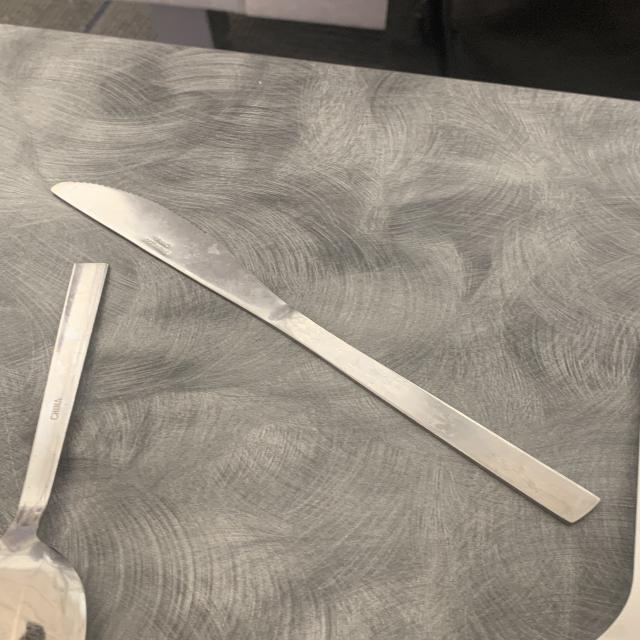knife: (35, 154, 601, 536)
